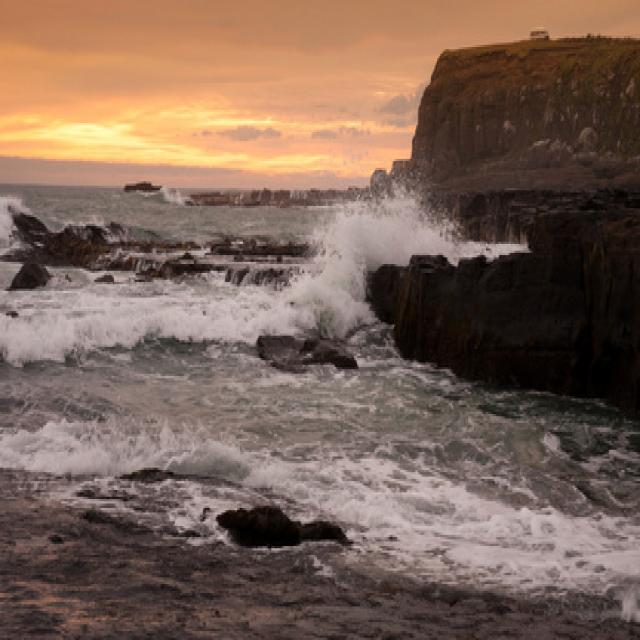reef: (2, 168, 328, 296)
